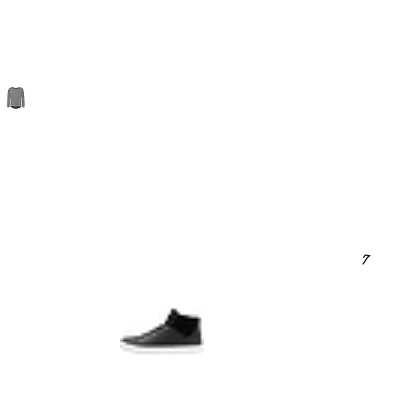5: (95, 271, 123, 299)
6: (54, 88, 110, 144), (327, 215, 349, 237)
7: (132, 233, 154, 255)
Ankle_boot: (202, 96, 258, 152), (139, 166, 167, 194)
Dress: (31, 189, 53, 211)
Trouser: (255, 62, 297, 104)
